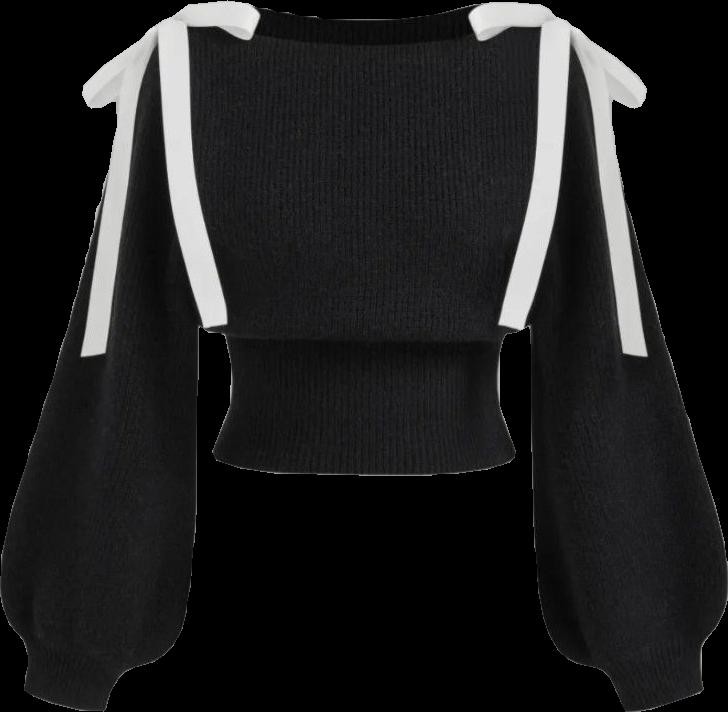Bodice: (158, 1, 573, 475)
Neckline: (193, 6, 548, 50)
Sleeve: (526, 22, 727, 710), (1, 24, 200, 710)
Sleeveline: (526, 23, 577, 325), (152, 25, 204, 316), (604, 639, 703, 677), (28, 644, 121, 682)
Waistline: (208, 449, 517, 478)
